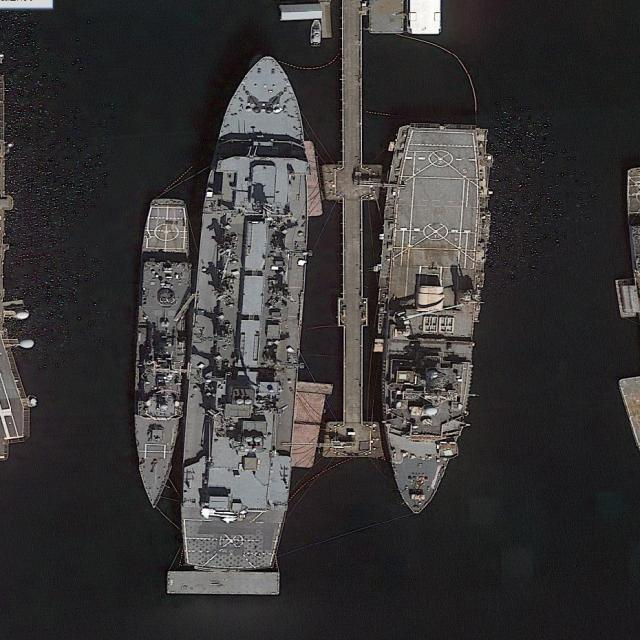Dock: (343, 8, 363, 420)
Frigate: (131, 198, 193, 509)
Landing: (364, 118, 498, 515)
